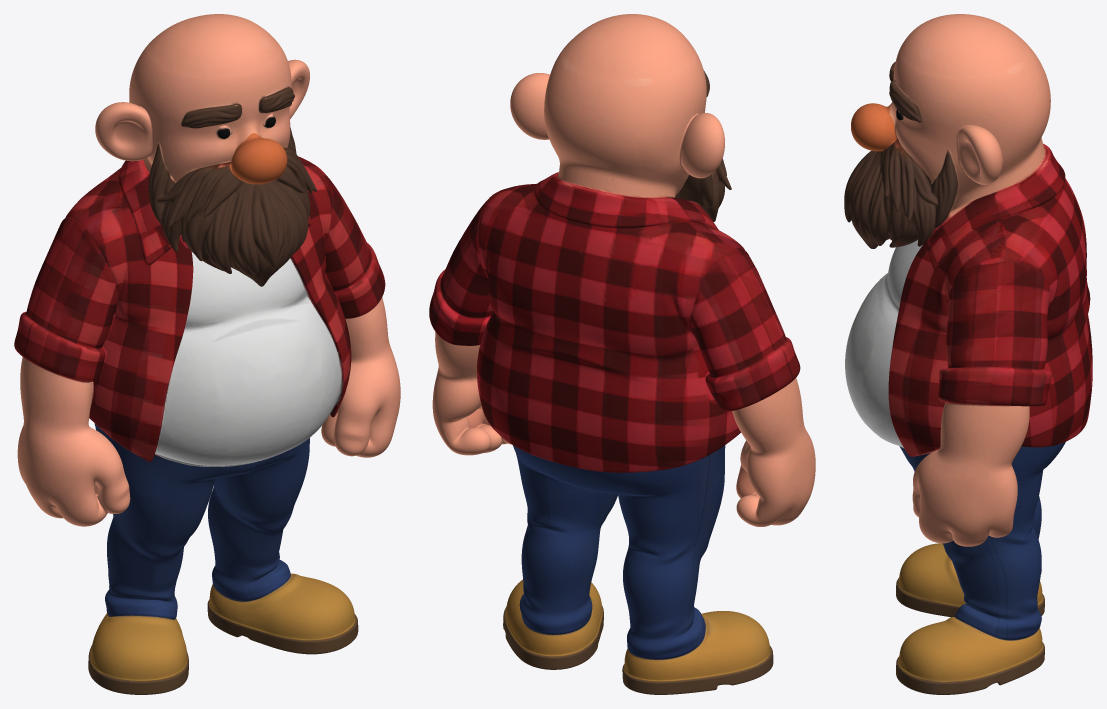
The model's file is meshy_source.glb.
The picture shows the model from 3 angles, left to right: view 1: azimuth 30°, elevation 25°; view 2: azimuth 150°, elevation 25°; view 3: azimuth 270°, elevation 25°; orthographic projection. The views are drawn at different scales.
Size of the model in its own units: 1.15 by 1.9 by 0.6964.
Materials: 1 (1 with a texture image).
